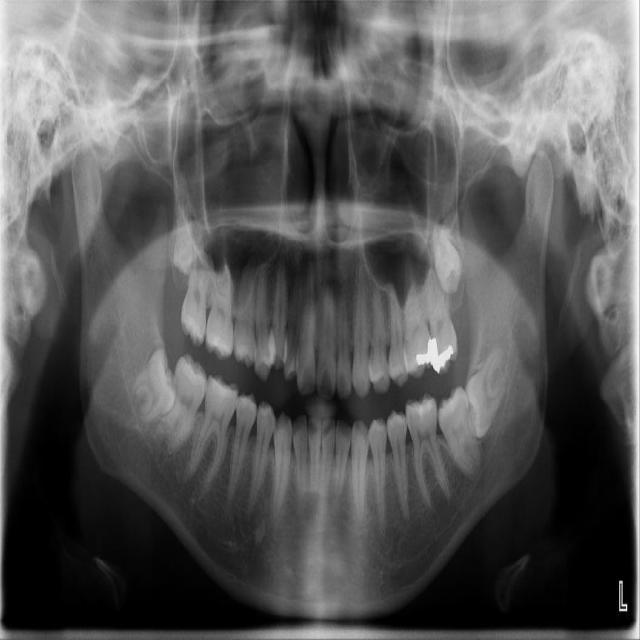3M ESPE Implant: (172, 202, 199, 277)
52: (429, 318, 459, 375), (403, 328, 435, 379)
73: (594, 569, 600, 579)
BioHorizons Implant: (426, 268, 460, 374)
BioLife Implant: (429, 224, 466, 300)
Biomet 3i Implant: (450, 342, 517, 441)
Blue Sky Bio Implant: (431, 382, 485, 479)
Caries: (178, 227, 214, 348)
Implant: (153, 352, 213, 455)
Keystone Dental Implant: (126, 347, 184, 425)
